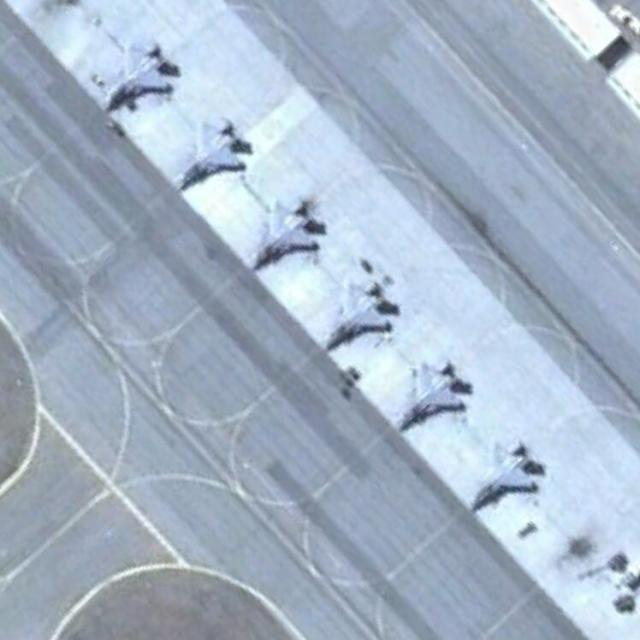fighter jet: (233, 196, 334, 270), (93, 32, 179, 110), (380, 360, 471, 432), (164, 120, 254, 191), (307, 276, 397, 347), (461, 441, 545, 515)
